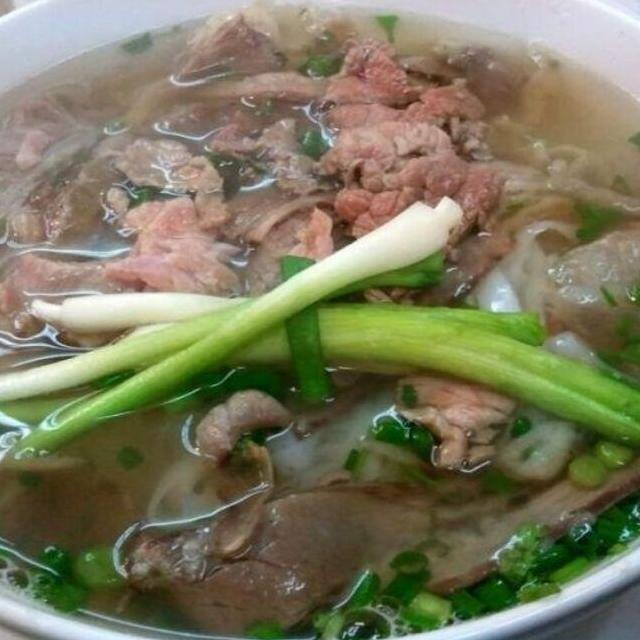thit bo: (120, 460, 455, 640), (303, 31, 516, 300), (0, 183, 249, 362), (194, 106, 353, 248), (182, 380, 297, 572), (0, 86, 132, 247), (525, 211, 640, 390), (92, 128, 237, 248), (213, 194, 343, 324), (387, 356, 527, 474)
